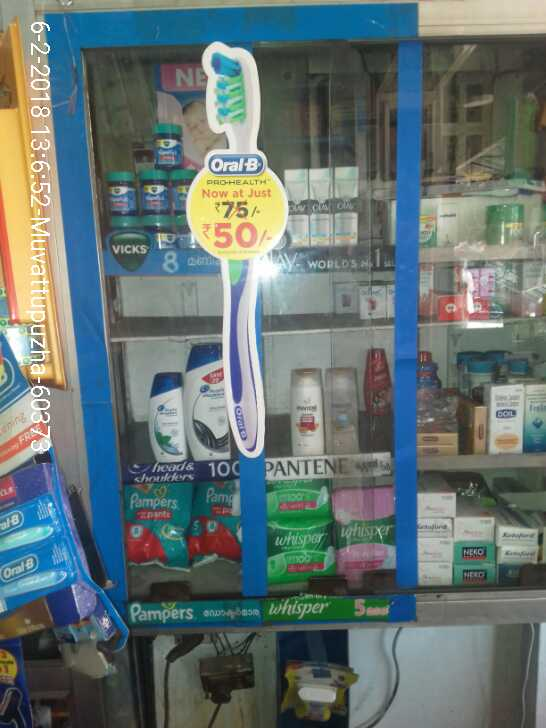oralcare: (1, 460, 83, 610)
vicks: (104, 116, 206, 244)
